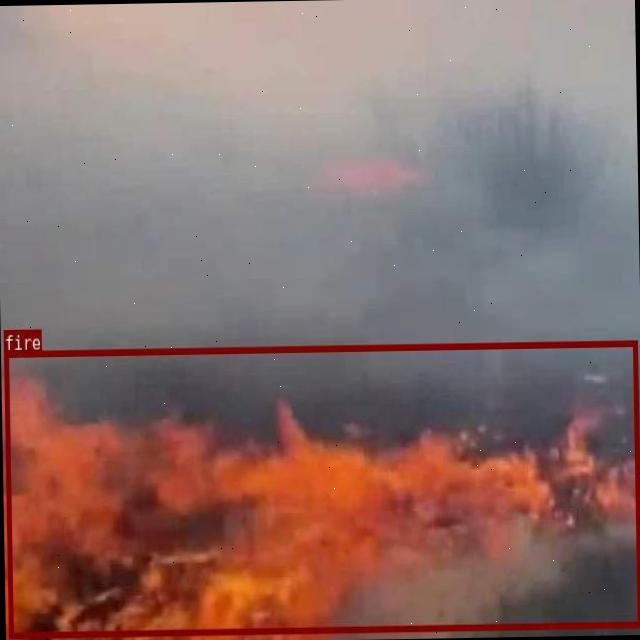fire: (3, 338, 640, 637)
